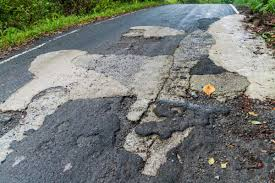pothole: (122, 71, 274, 175), (1, 83, 41, 154), (119, 21, 176, 59)
